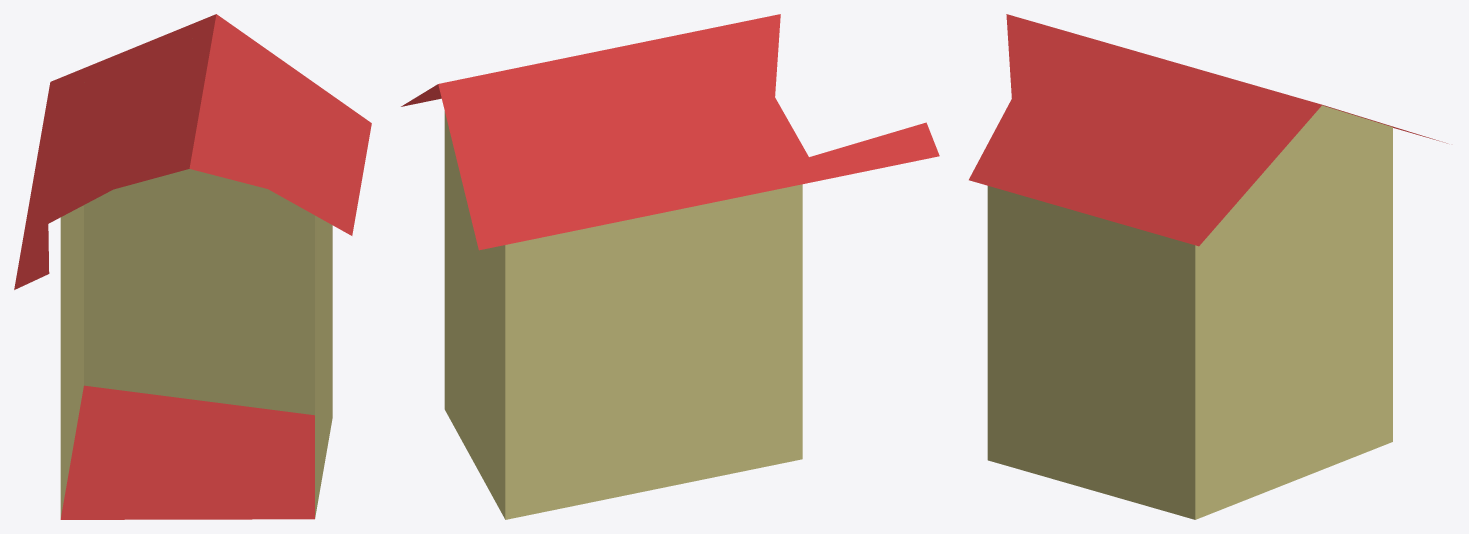
The picture shows the model from 3 angles, left to right: view 1: azimuth 30°, elevation 25°; view 2: azimuth 150°, elevation 25°; view 3: azimuth 270°, elevation 25°; orthographic projection. The views are drawn at different scales.
Size of the model in its own units: 13.68 by 12.6 by 11.07.
